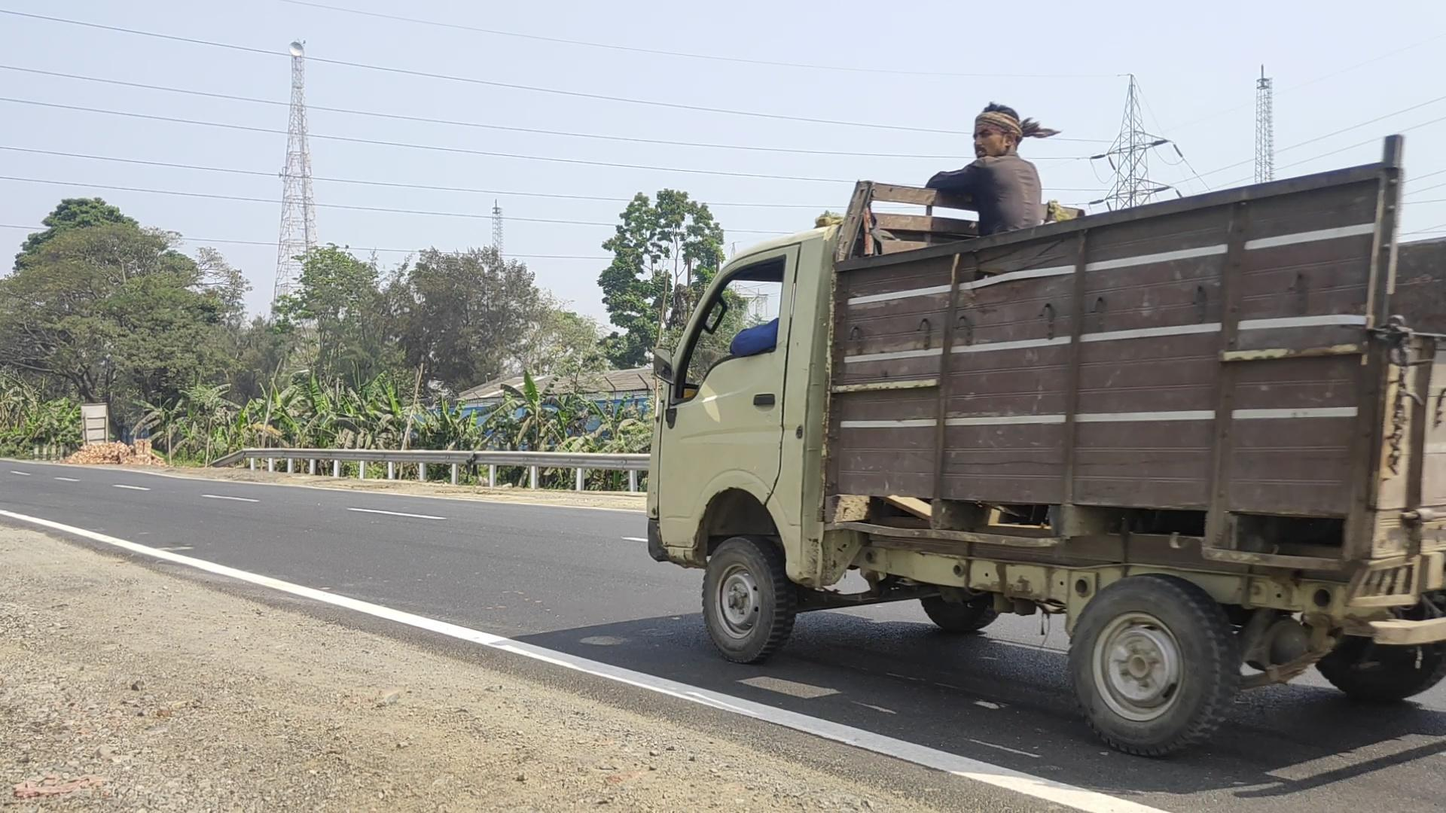van: (645, 100, 1446, 760)
